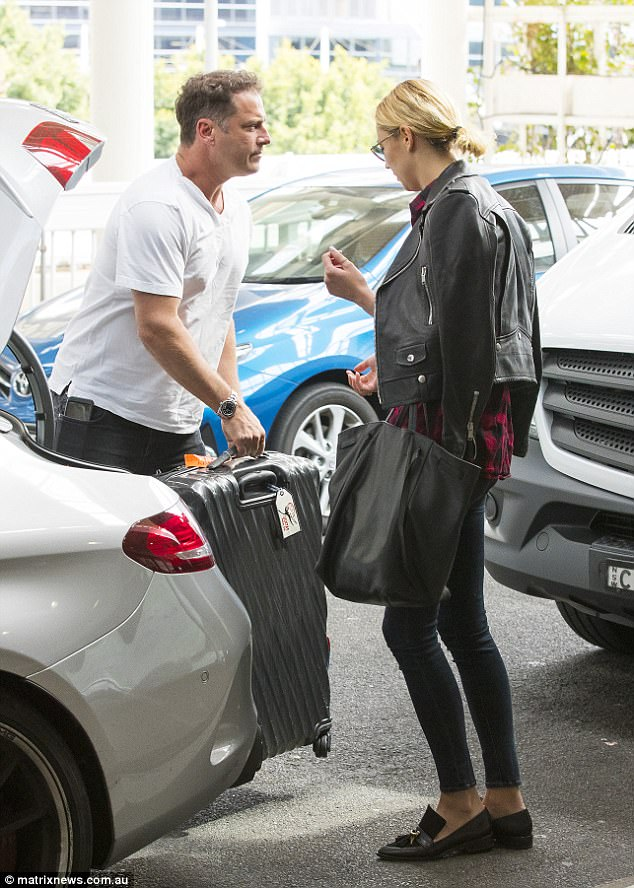Person: (319, 76, 544, 860), (59, 68, 274, 454)
